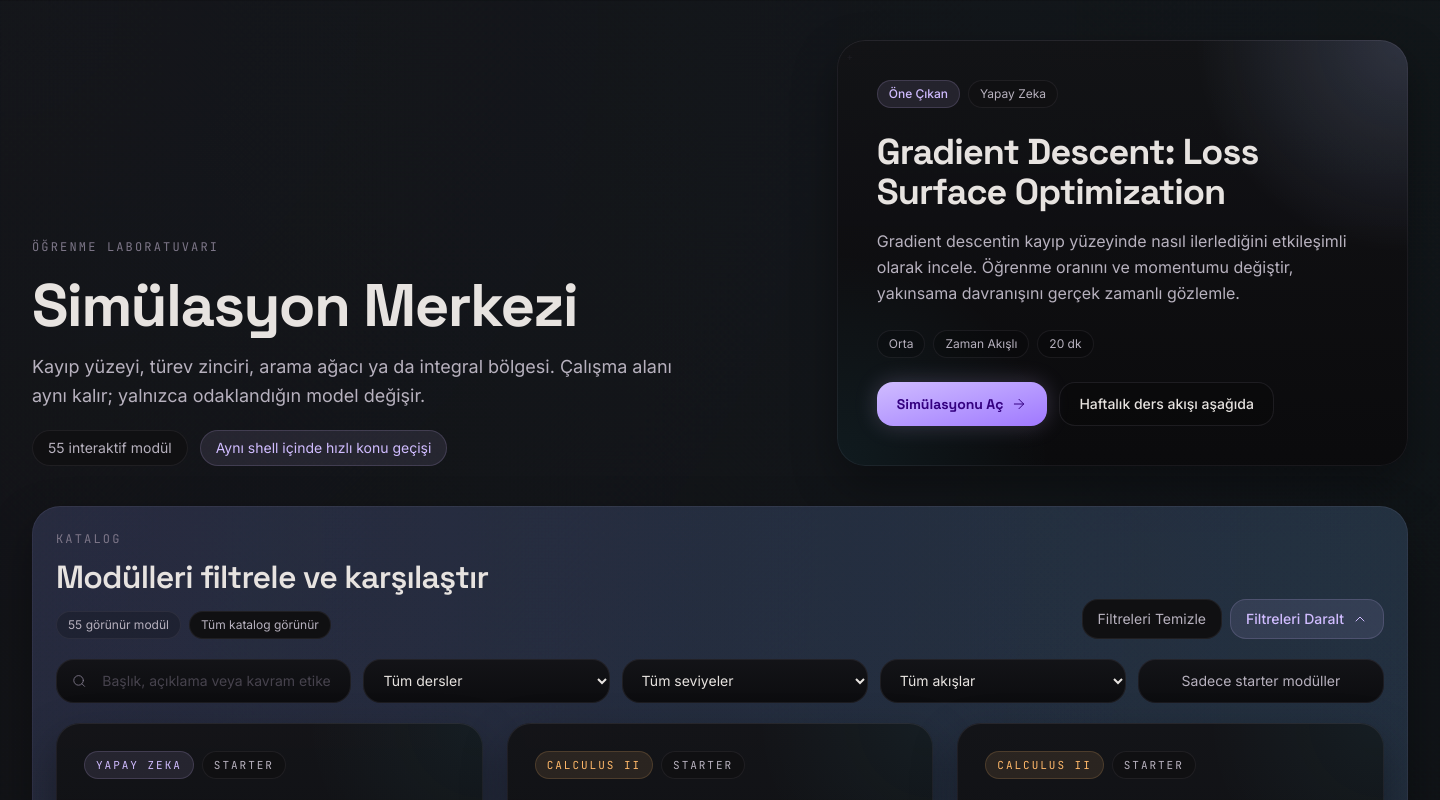
Test: Dashboard › can collapse and reopen only the filter controls
Click the button "Filtreleri Daralt".
click(1307, 619)  # box x1=1230 y1=599 x2=1384 y2=639
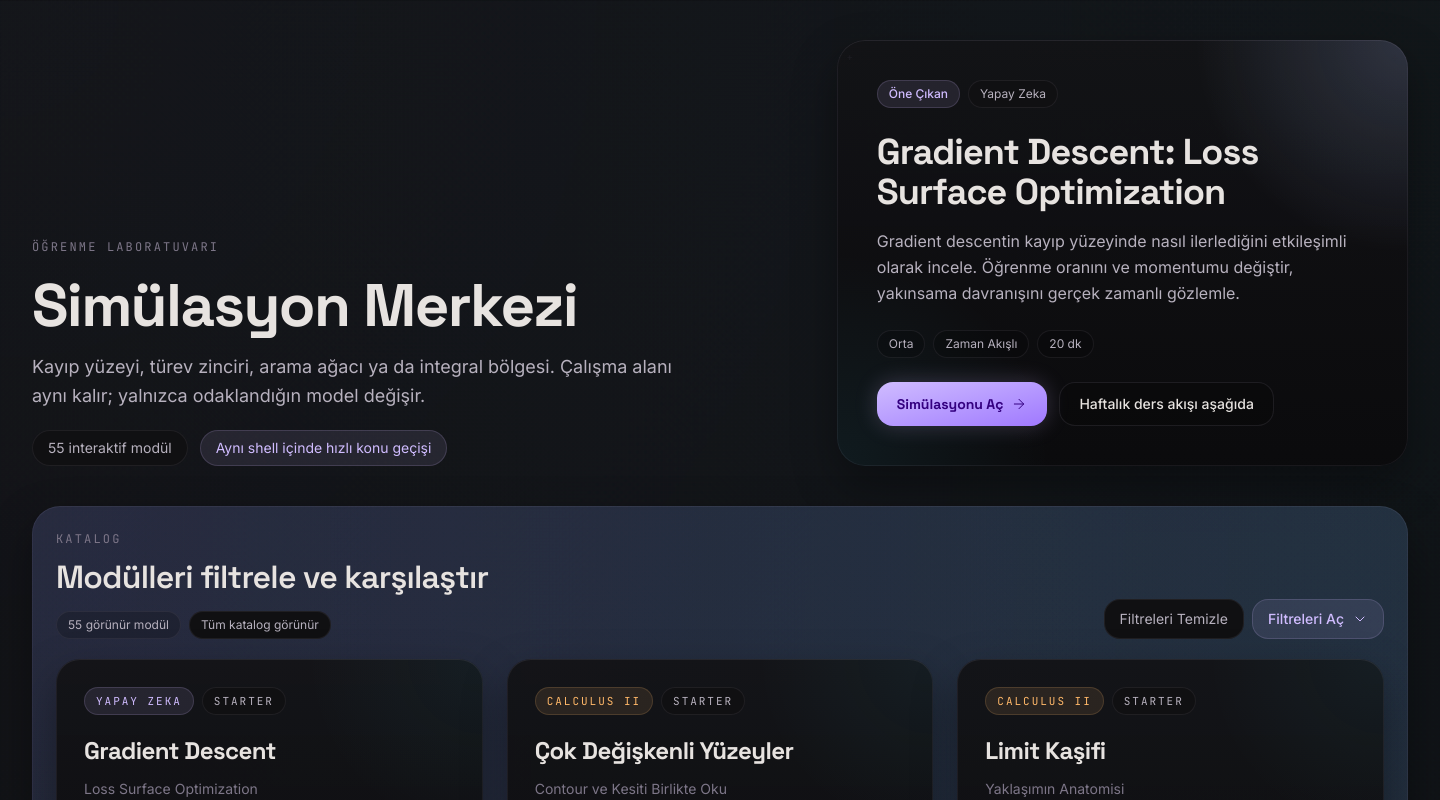
Expected: the heading "Gradient Descent: Loss Surface Optimization" is shown, x1=877 y1=129 x2=1258 y2=215
Click the button "Filtreleri Aç".
click(1318, 619)  # box x1=1252 y1=599 x2=1384 y2=639
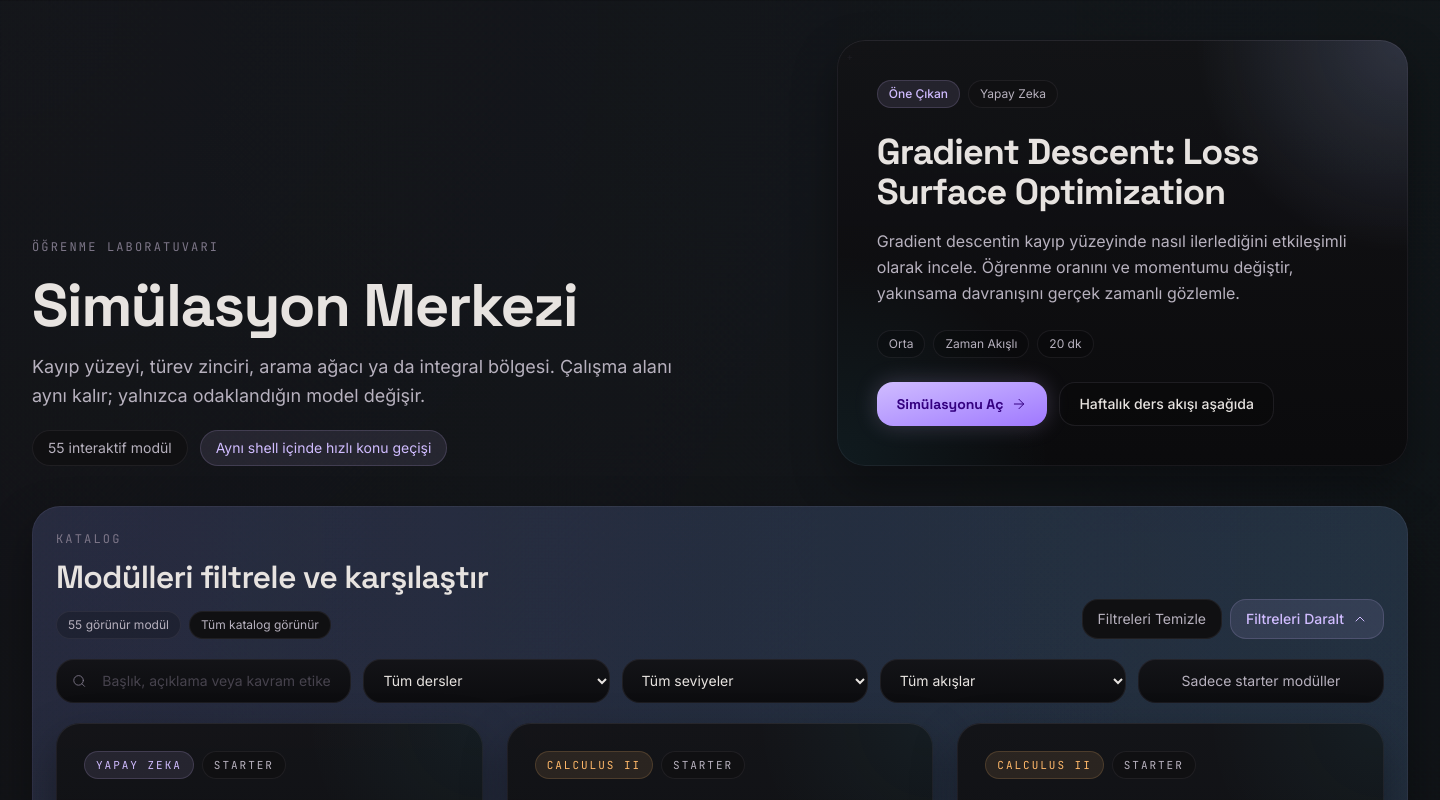
Result: the field named "katalog araması" is shown at x1=98 y1=671 x2=335 y2=691
